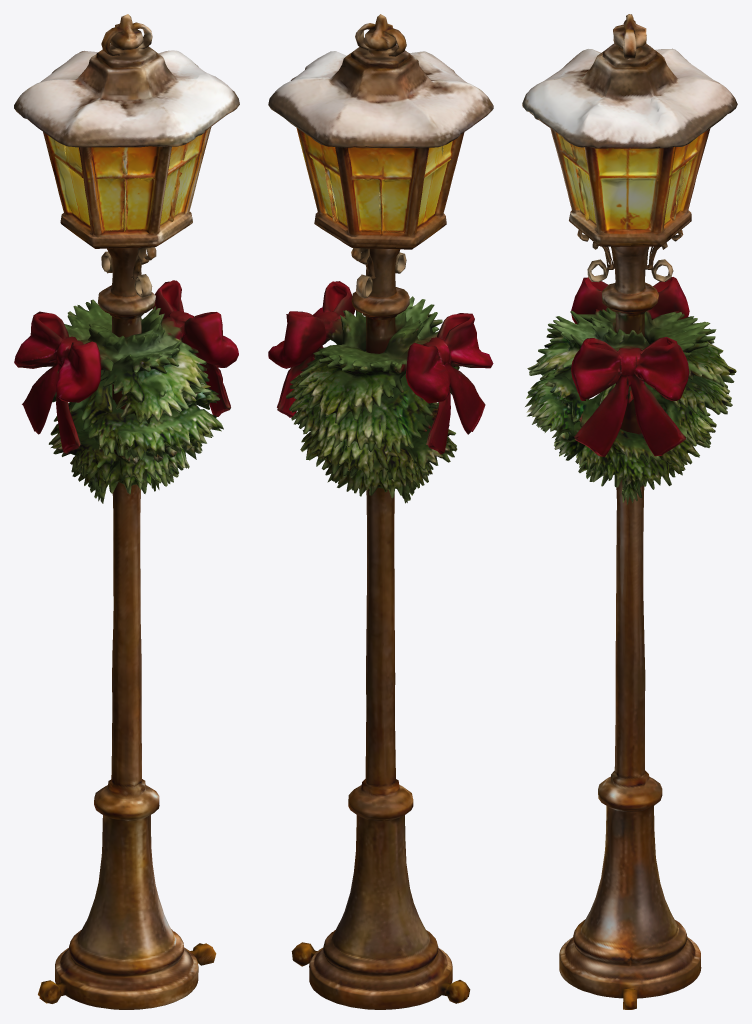
Rendered from christmas-lantern-tripo.glb.
The picture shows the model from 3 angles, left to right: view 1: azimuth 30°, elevation 25°; view 2: azimuth 150°, elevation 25°; view 3: azimuth 270°, elevation 25°; orthographic projection.
Visible parts, largest first — view 1: tripo_node_470e4e42-fda2-4ca8-8705-1598f533c847; view 2: tripo_node_470e4e42-fda2-4ca8-8705-1598f533c847; view 3: tripo_node_470e4e42-fda2-4ca8-8705-1598f533c847.
Boxes of the visible parts, x1,y1,x2,y2 form: tripo_node_470e4e42-fda2-4ca8-8705-1598f533c847: (14,14,239,1009); tripo_node_470e4e42-fda2-4ca8-8705-1598f533c847: (268,14,493,1009); tripo_node_470e4e42-fda2-4ca8-8705-1598f533c847: (522,14,737,1009).
Size of the model in its own units: 0.1934 by 0.9844 by 0.2006.
1 material, 1 textured.
